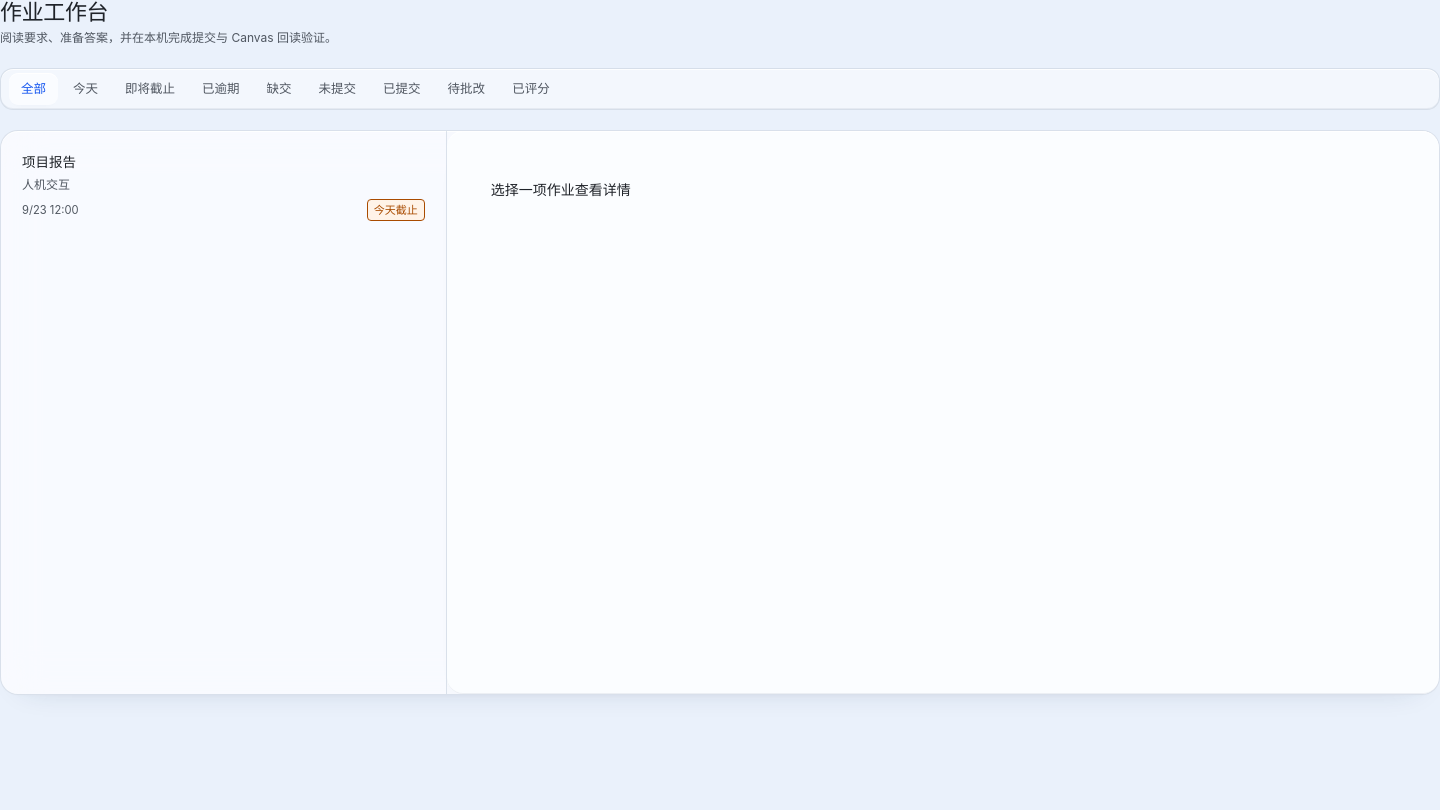
Test: AssignmentsView › requires confirmation and closes submission state after verified success
Step 1. Click the button "项目报告 人机交互 9/23 12:00 今天截止" → (49, 162), box x1=9 y1=139 x2=438 y2=235
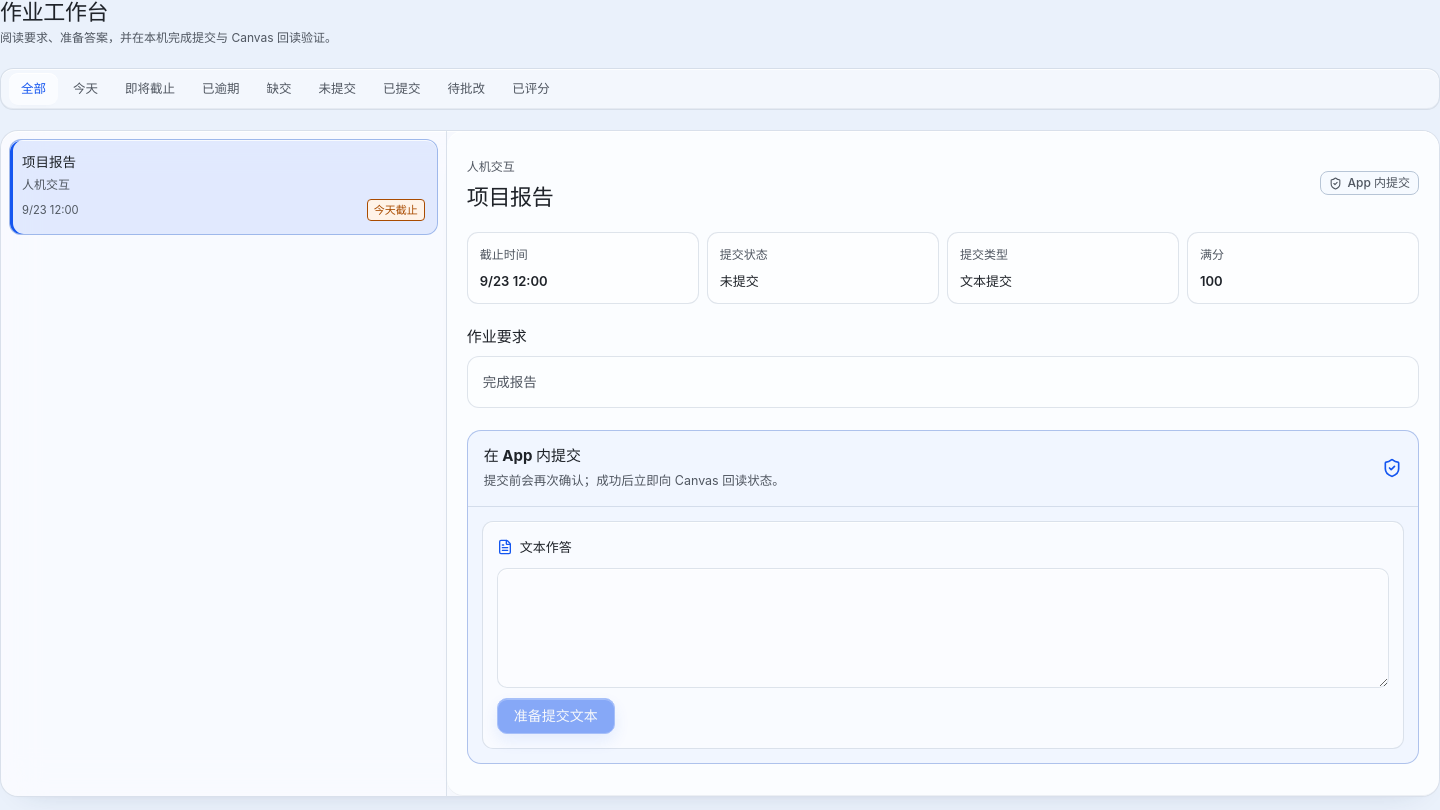
Step 2. Type "我的答案" into the text box named "文本内容" → (943, 628), box x1=497 y1=568 x2=1389 y2=688
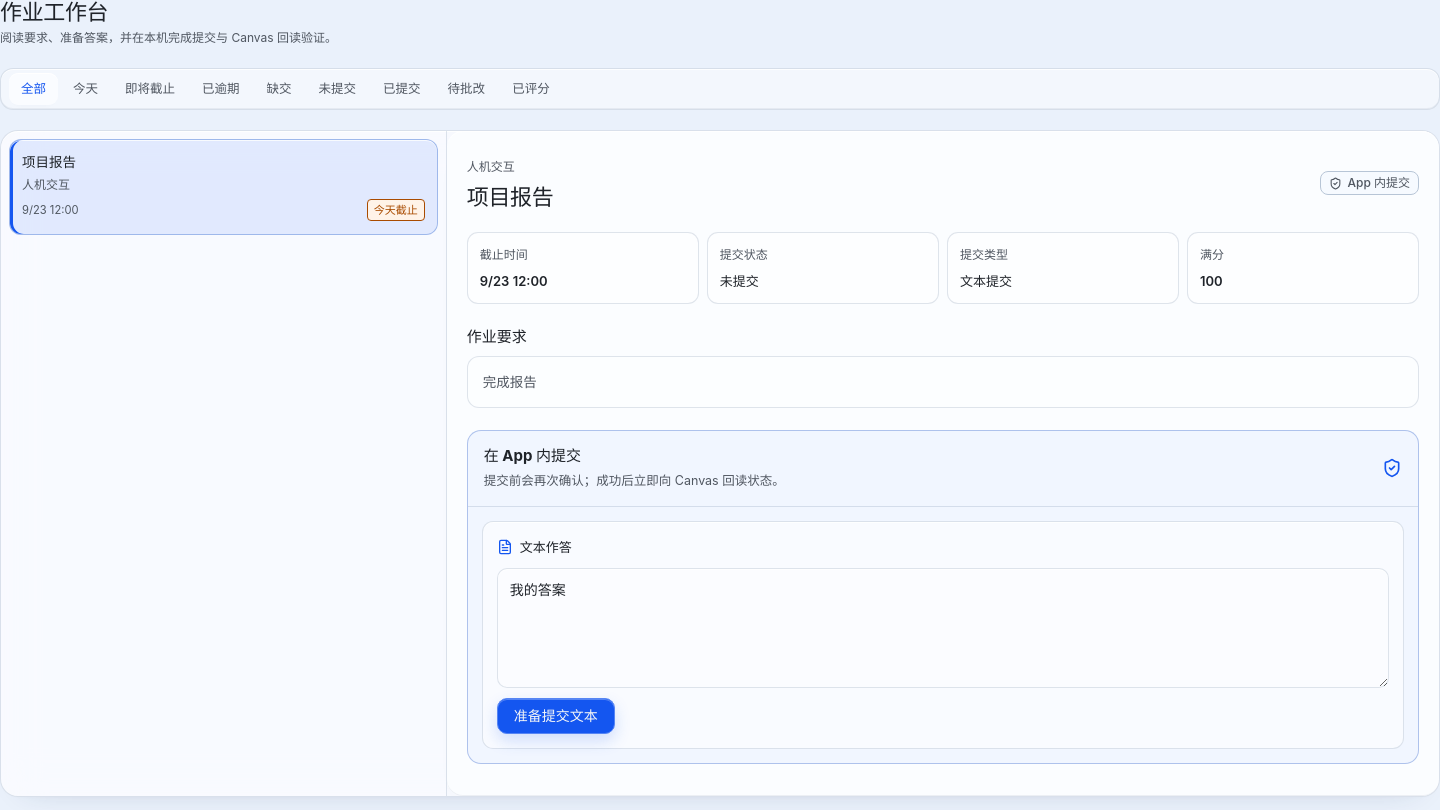
Step 3. Click the button "准备提交文本" → (556, 716), box x1=497 y1=698 x2=615 y2=734
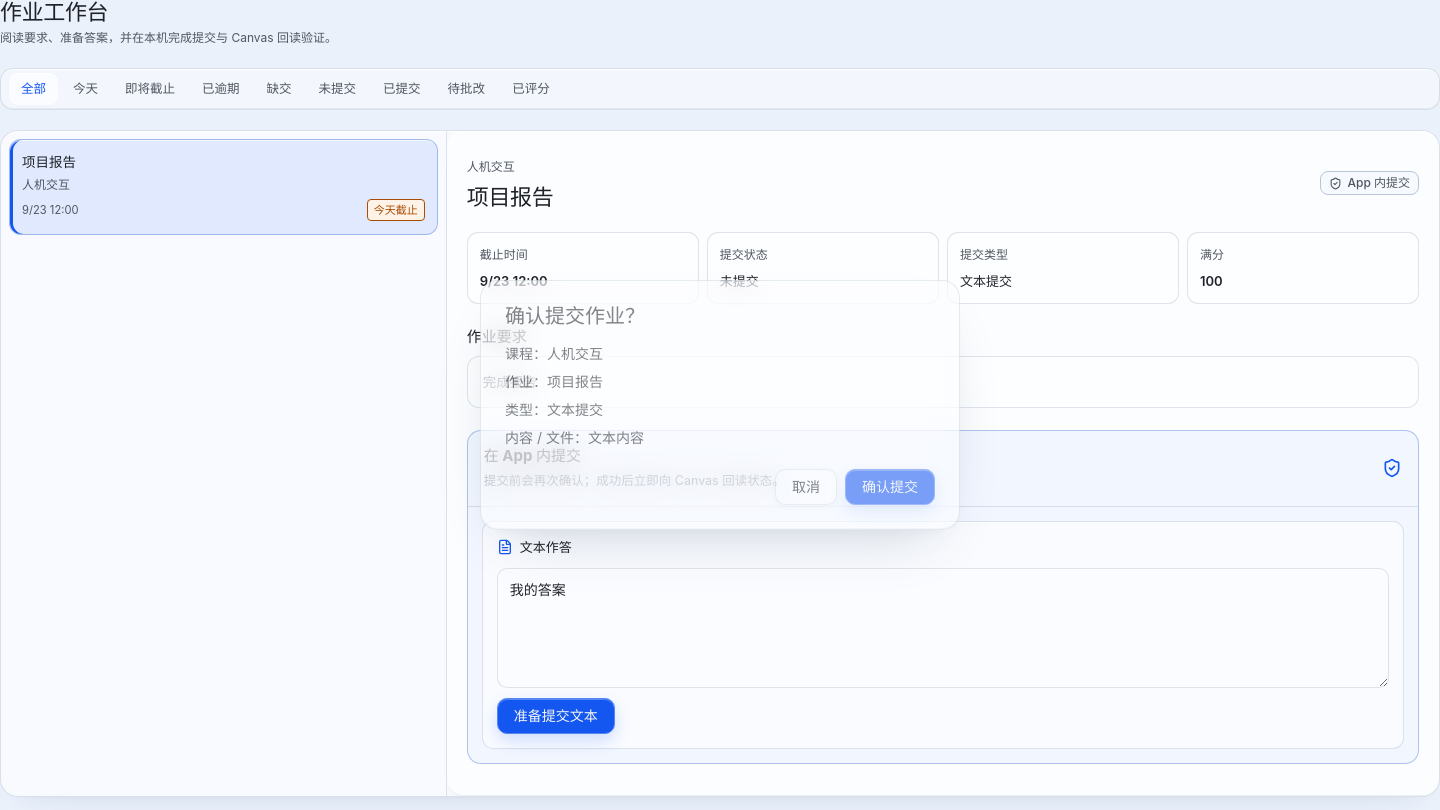
Check: the dialog shows "人机交互", box x1=547 y1=345 x2=603 y2=362
Check: the dialog shows "文本提交", box x1=547 y1=401 x2=603 y2=418
Step 4. Click the button "确认提交" → (890, 487), box x1=845 y1=469 x2=935 y2=505
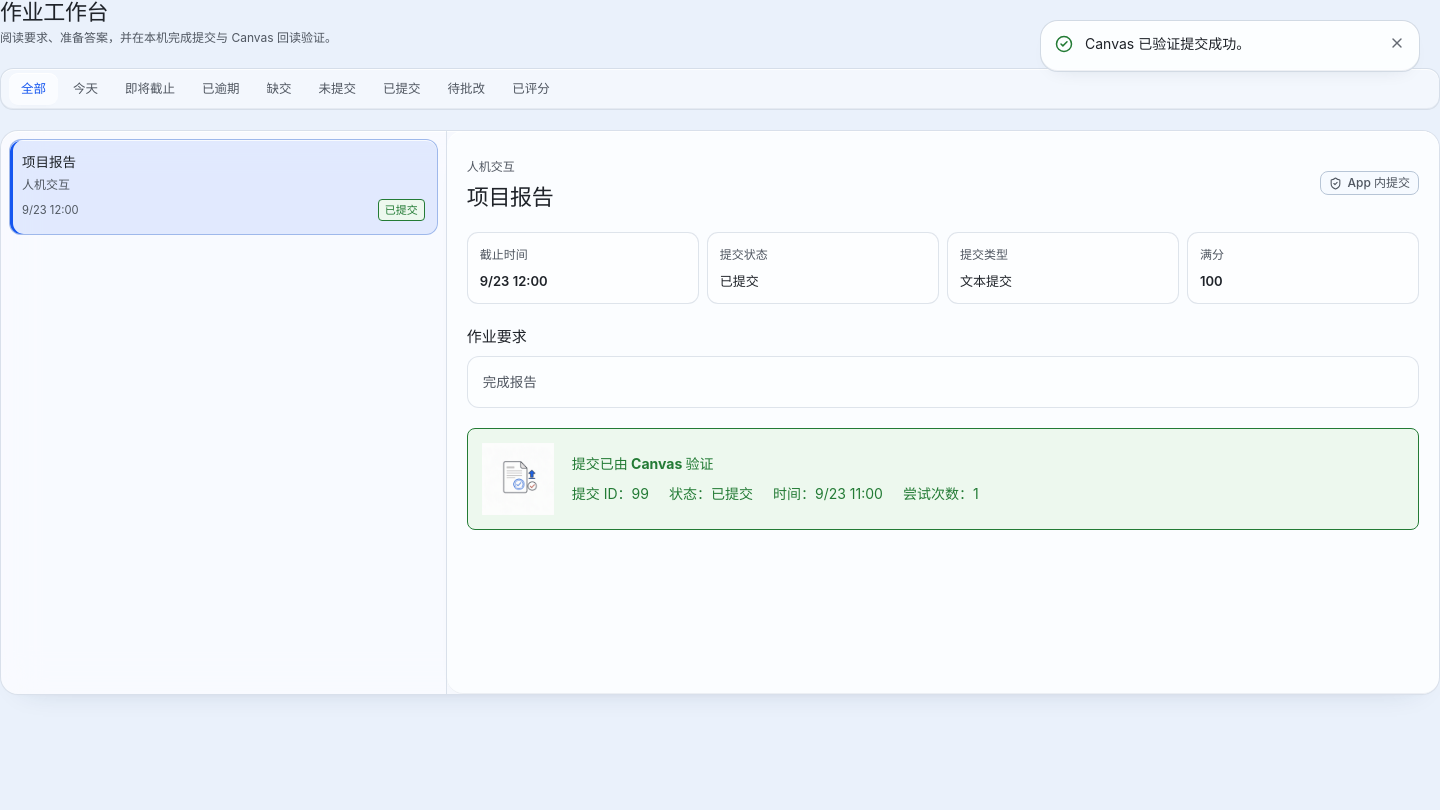
Check: the text "提交已由 Canvas 验证" is shown, box x1=572 y1=455 x2=714 y2=472
Check: the text "提交 ID：99" is shown, box x1=572 y1=483 x2=649 y2=505
Check: the text labelled "文本内容" is gone
